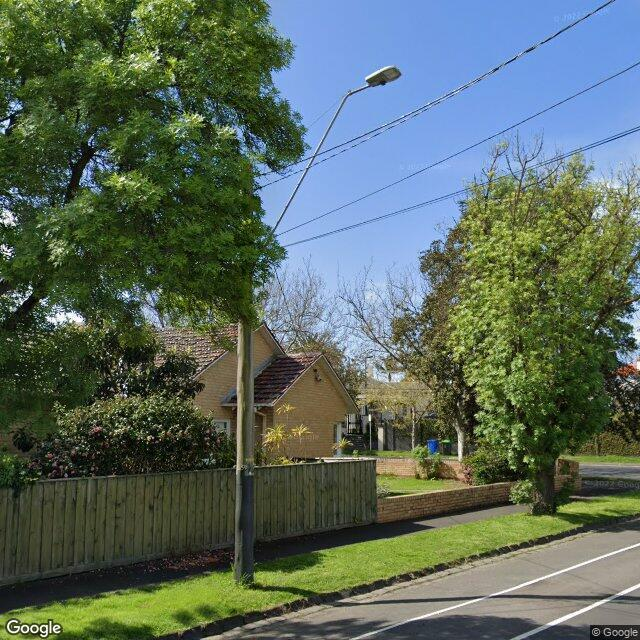streetlight: (251, 65, 403, 275)
timber-pole: (234, 318, 254, 590)
